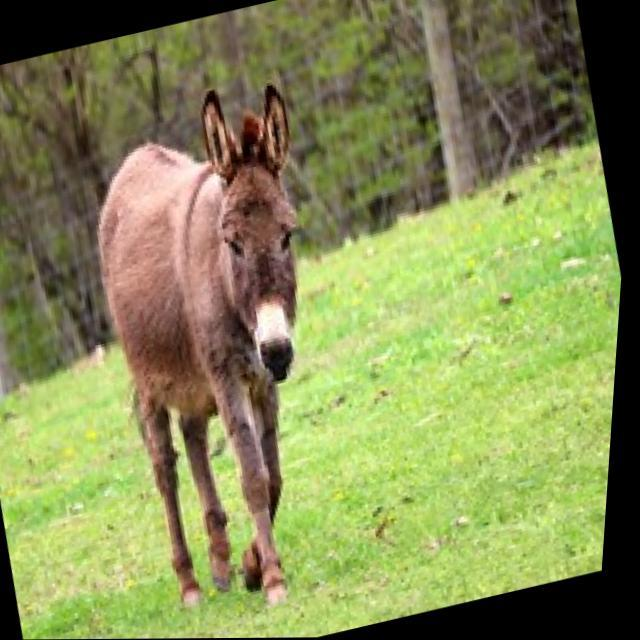Donkey: (49, 69, 404, 634)
